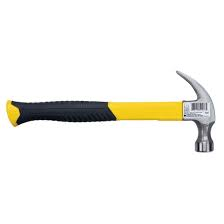hammer: (5, 68, 216, 153)
